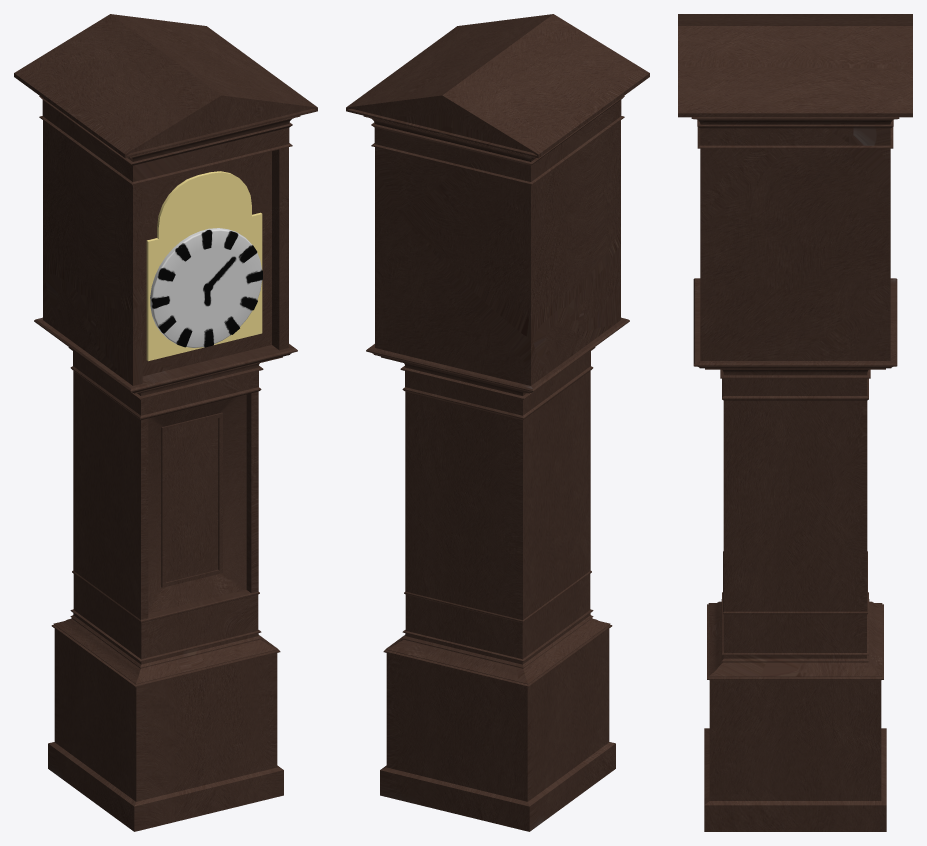
File: GrandFatherClockComplete.fbx
3 views of the same model, side by side, from view 1: azimuth 30°, elevation 25°; view 2: azimuth 150°, elevation 25°; view 3: azimuth 270°, elevation 25° (orthographic). The views are drawn at different scales.
Parts seen in each view (by area): view 1: GrandfatherClockBase, GrandfatherClockBase.001, GrandFatherClockFace, GrandFatherBackPlate; view 2: GrandfatherClockBase.001, GrandfatherClockBase; view 3: GrandfatherClockBase.001, GrandfatherClockBase.
Boxes of the visible parts, left/top/right/bottom form: GrandfatherClockBase: left=37, top=317, right=297, bottom=831; GrandfatherClockBase.001: left=14, top=14, right=317, bottom=683; GrandFatherClockFace: left=150, top=228, right=262, bottom=347; GrandFatherBackPlate: left=146, top=171, right=262, bottom=361; GrandfatherClockBase.001: left=346, top=14, right=649, bottom=683; GrandfatherClockBase: left=380, top=347, right=615, bottom=831; GrandfatherClockBase.001: left=678, top=14, right=912, bottom=676; GrandfatherClockBase: left=693, top=278, right=897, bottom=831.
Size of the model in its own units: 53.96 by 195 by 53.96.
3 materials, 3 textured.
